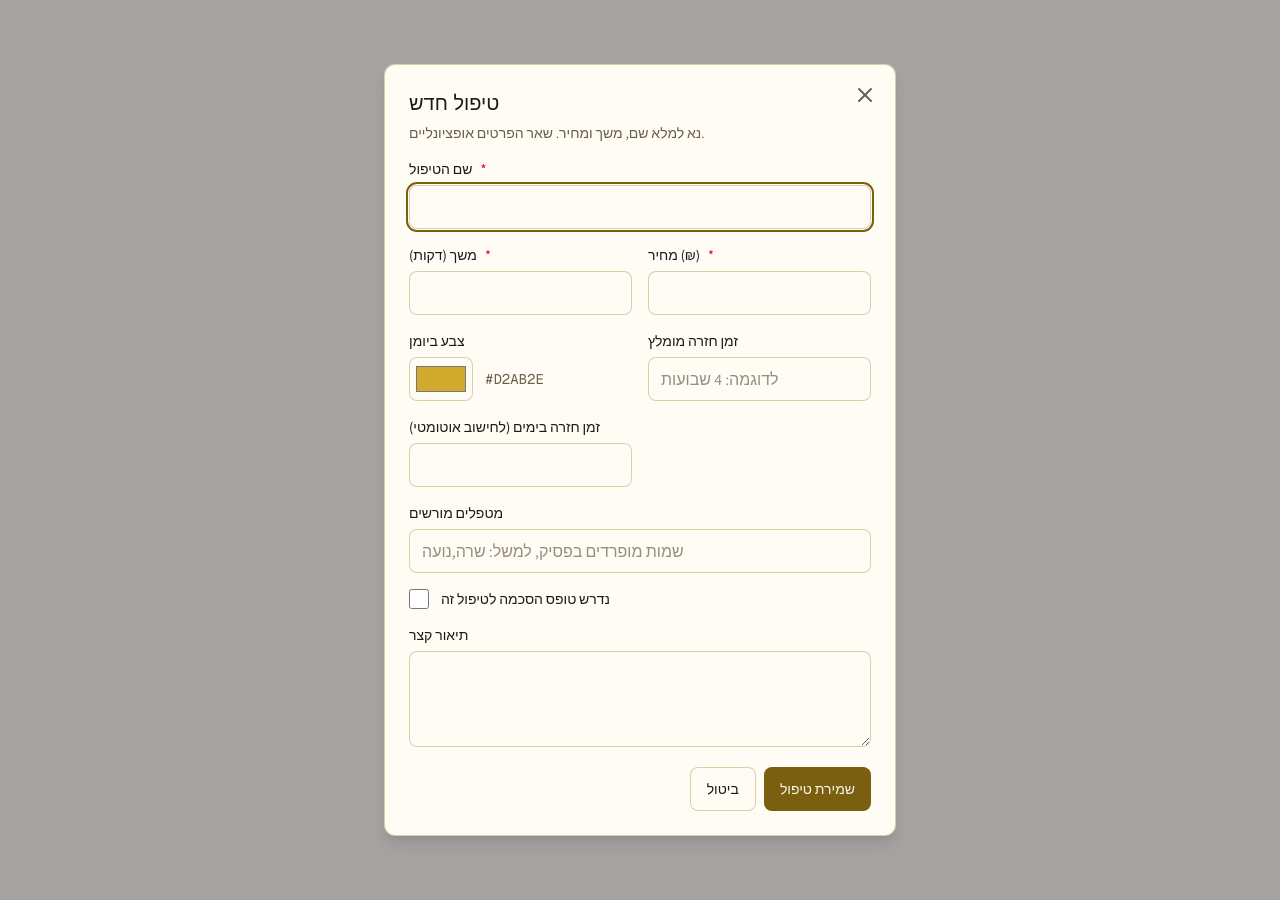
Test: TreatmentFormDialog — ולידציה בצד לקוח › שם ריק חוסם את ה-POST ומציג הודעת תיקון
Type "30" into the number field with id "nt-duration".
click(520, 293); type("30")  # box [409,271,632,315]
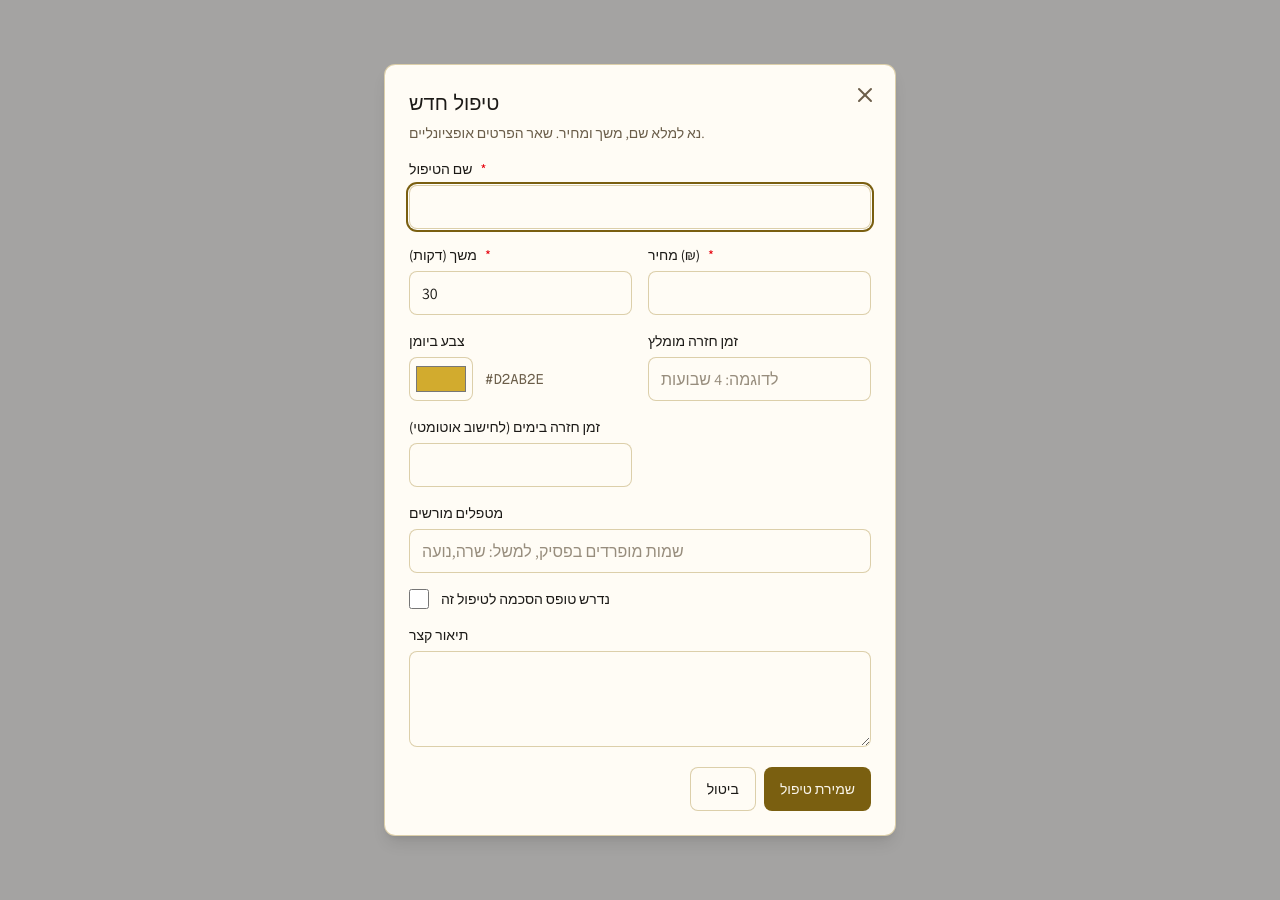
Type "100" into the number field with id "nt-price".
click(760, 293); type("100")  # box [648,271,871,315]
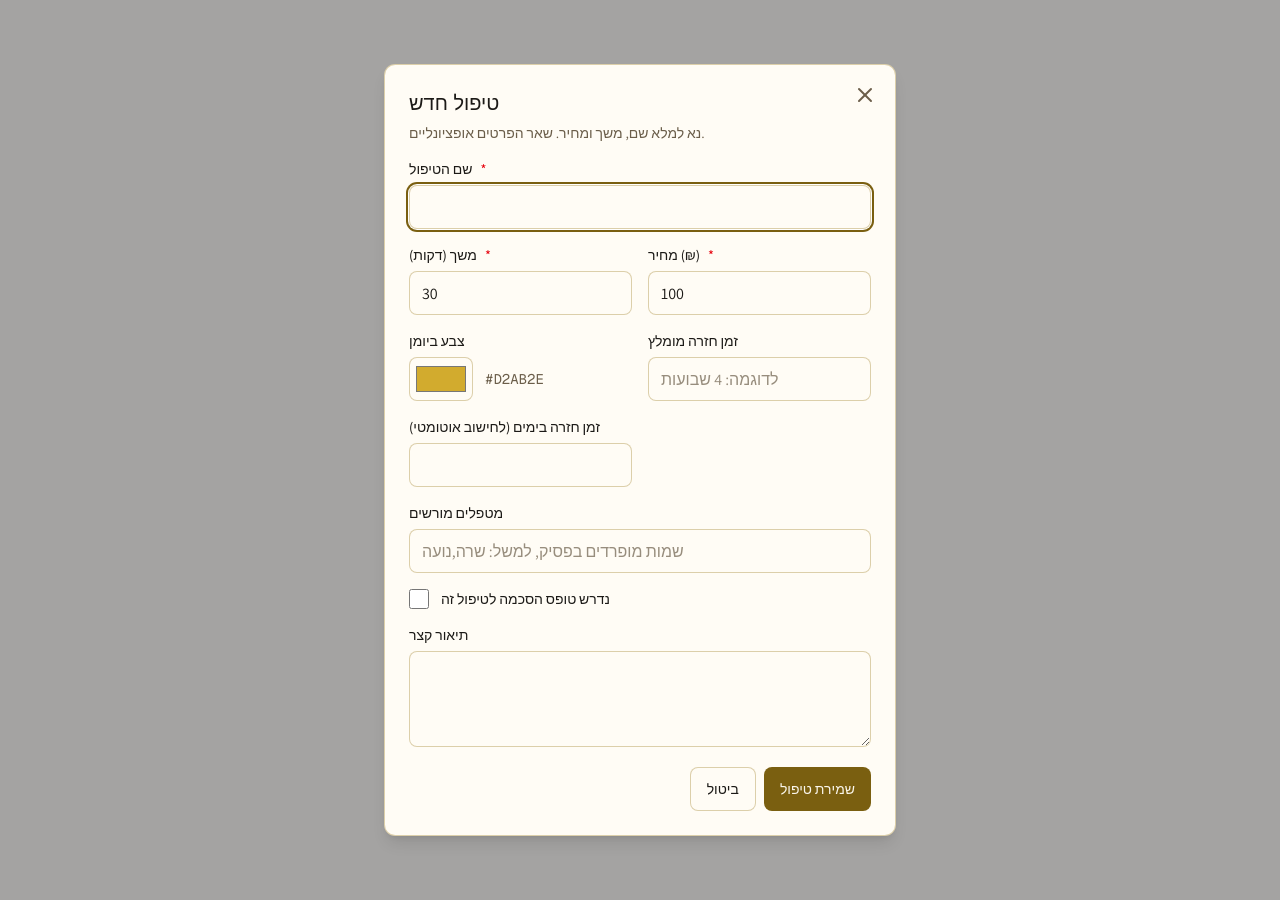
Click the button "שמירת טיפול".
click(817, 789)  # box [764,767,871,811]
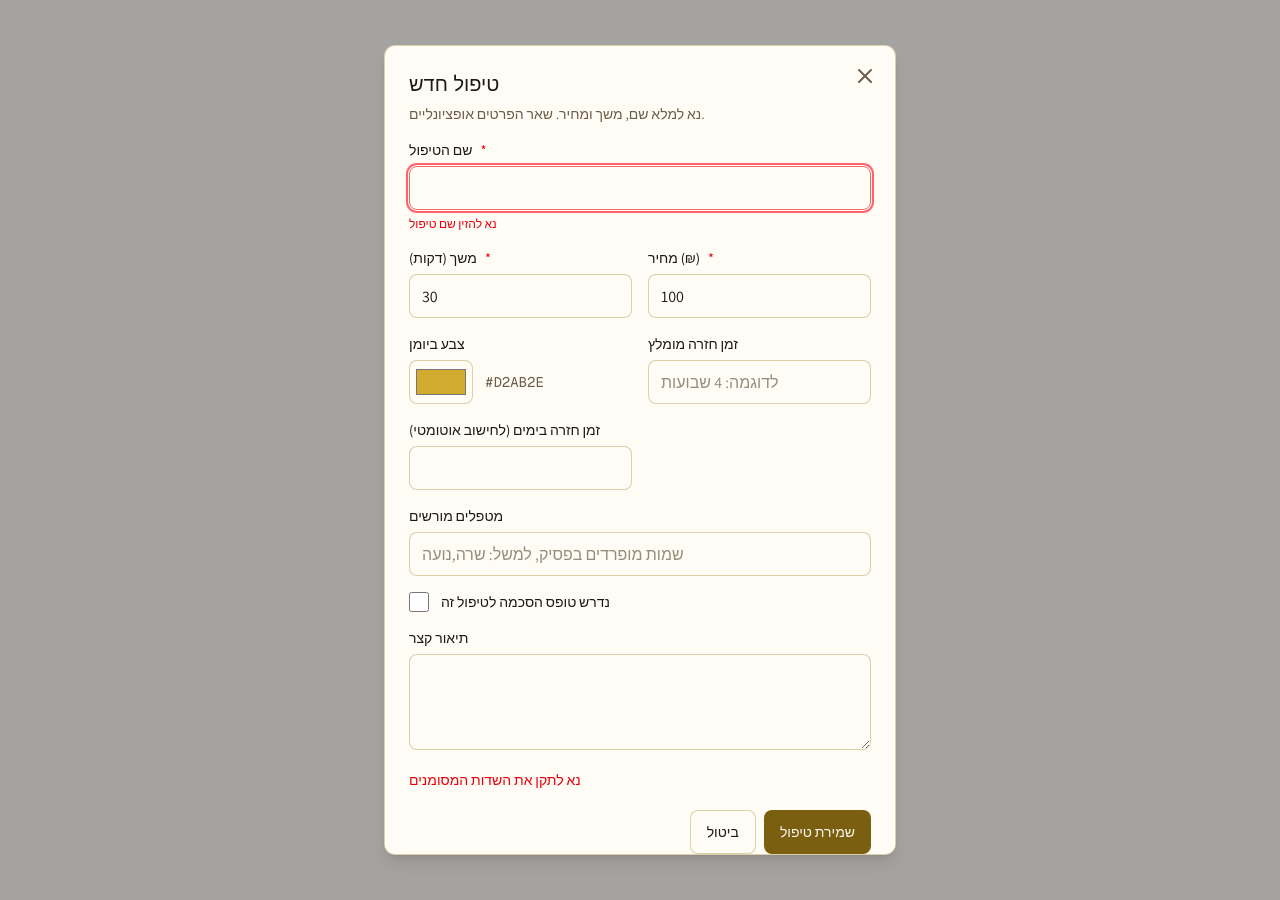
expect the text "נא לתקן את השדות המסומנים" is shown: met, box [409,771,581,789]
